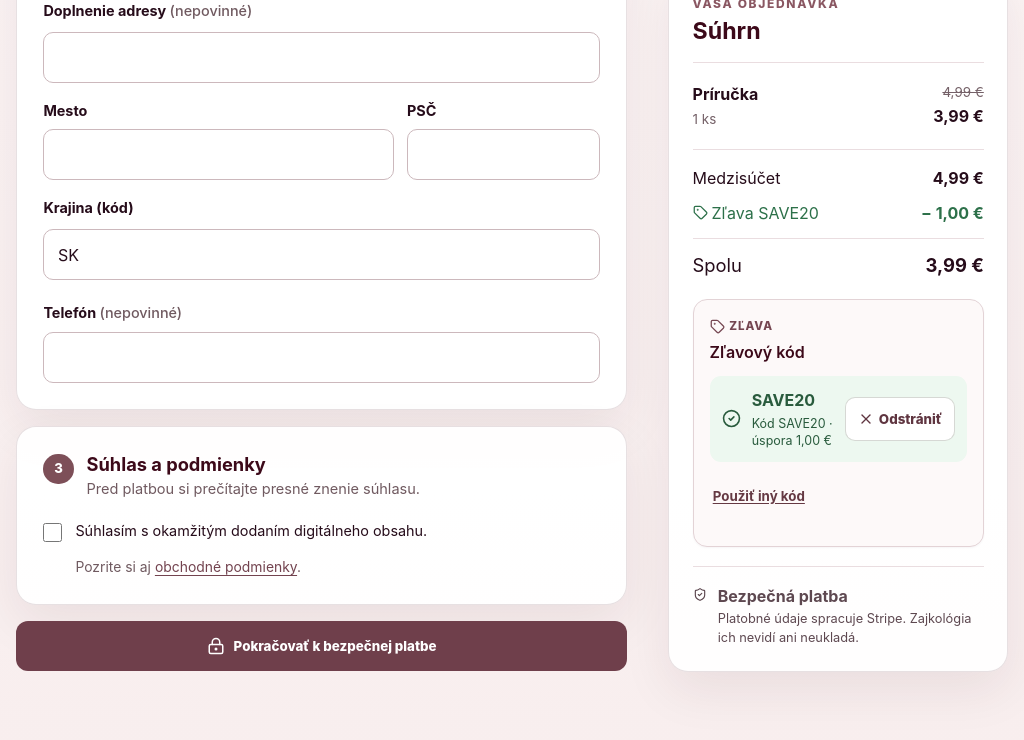
Scenario: first-party Checkout Elements page › announces missing details, focuses the first invalid field, and never initializes payment
The width and height of the screenshot is (1024, 740).
(page scrolled)
Click the button "Pokračovať k bezpečnej platbe". click: (322, 646)
box: [16,621,627,671]
(page scrolled)
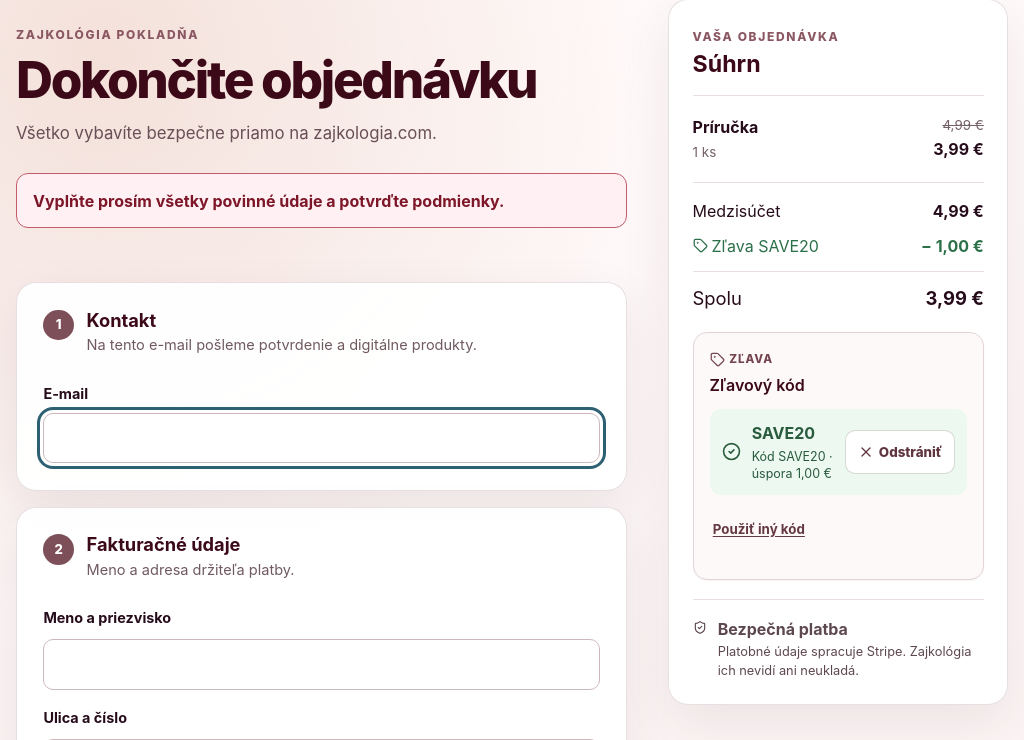
Expected: the message "Vyplňte prosím všetky povinné údaje a potvrďte podmienky." is shown, [16,173,627,228]
